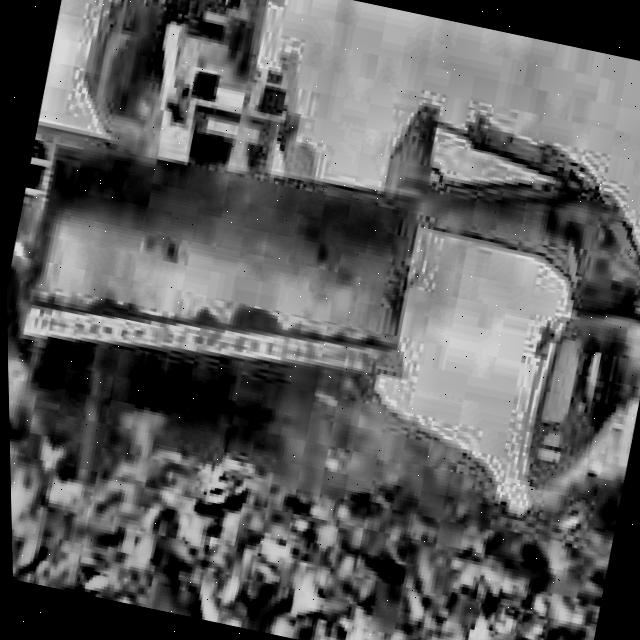excavator: (326, 95, 640, 522)
